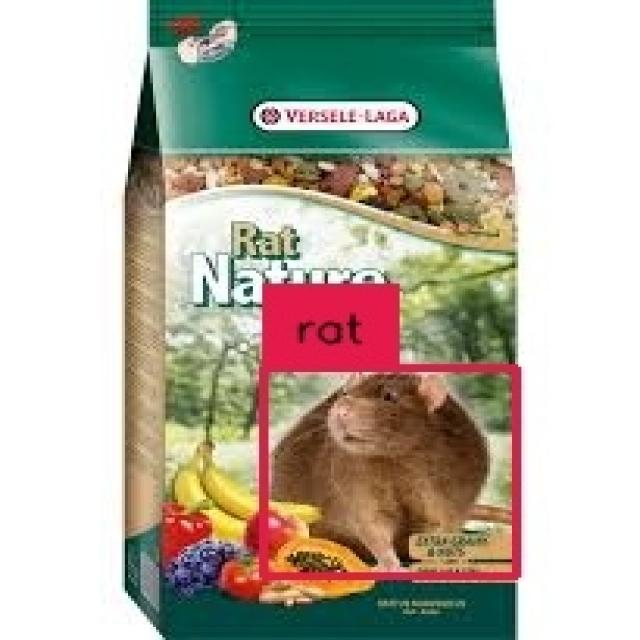rat: (265, 368, 515, 576)
